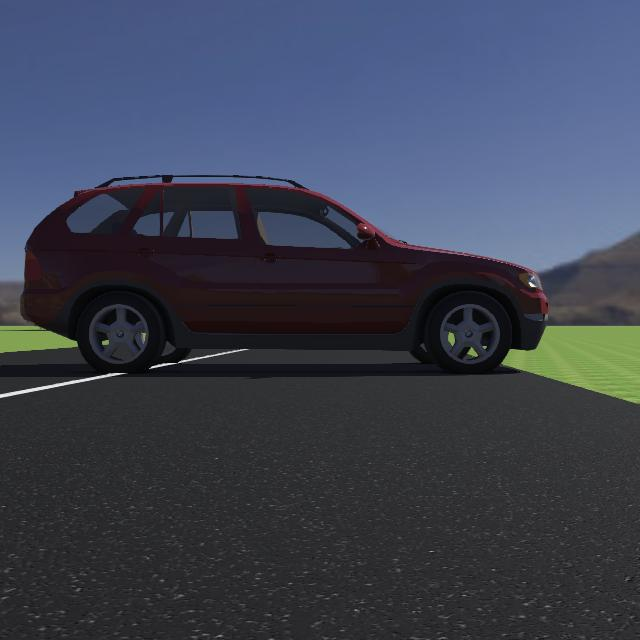car: (21, 152, 554, 388)
